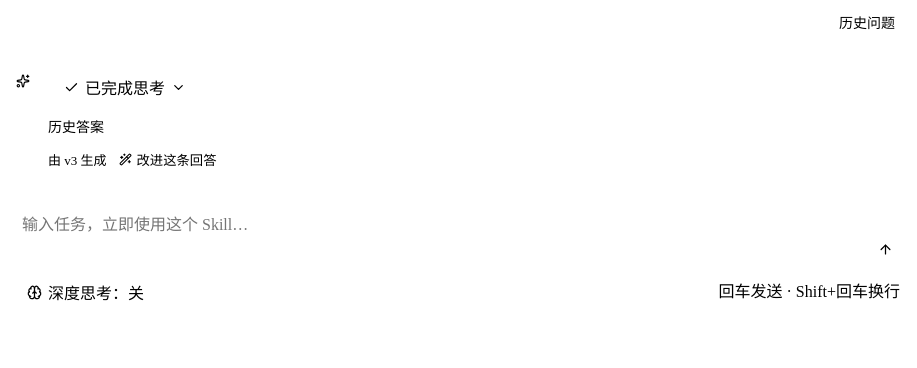
Test case: Skill run thinking integration › restores persisted reasoning when an existing thread is opened
Expected: the text "历史分析" is not shown
Click the button "已完成思考" at (125, 87), box [57,72,193,102]
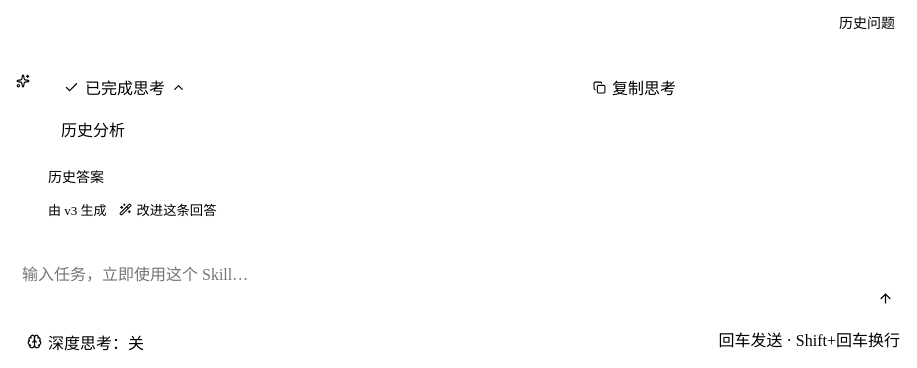
Result: the text "历史分析" is shown at [61,122,125,139]
